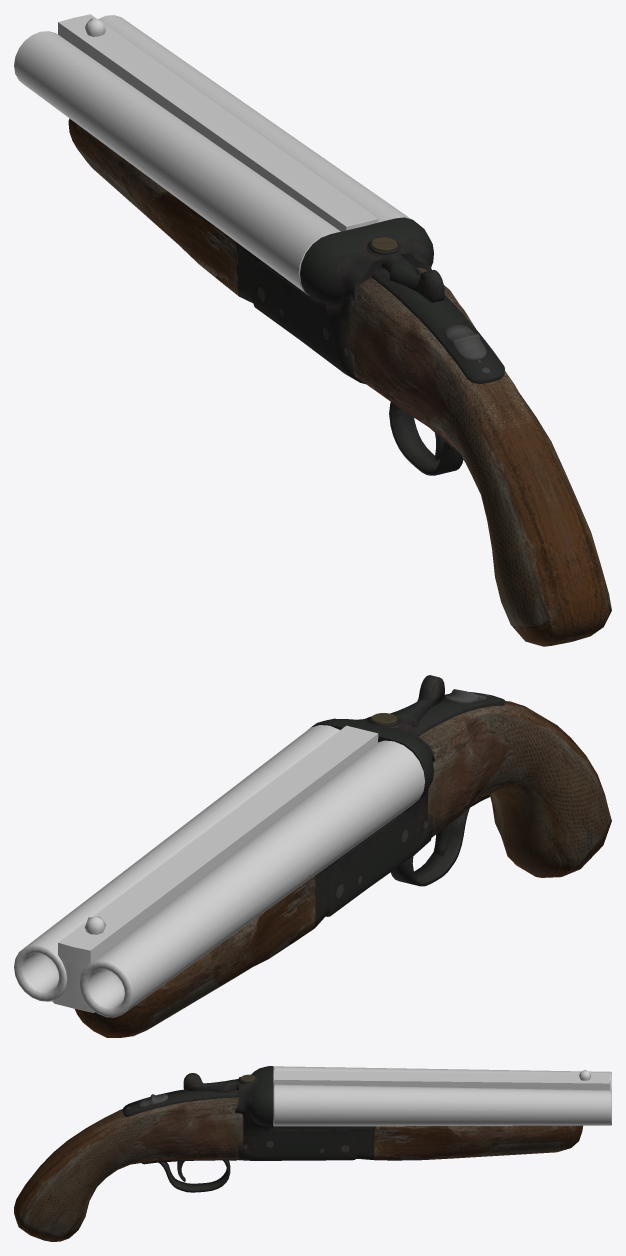
Rendered from 12GaugeShotgun.FBX.
3 views of the same model, one above another, from view 1: azimuth 30°, elevation 25°; view 2: azimuth 150°, elevation 25°; view 3: azimuth 270°, elevation 25° (orthographic). The views are drawn at different scales.
Visible parts, largest first — view 1: Shotgun_Barrel_Short:0, Shotgun_Grip_Stock_Short:0, ShotgunReceiver:0, ShotgunStock:0, ShotgunBarrelCatch:0, Safety:0, Object007:0; view 2: Shotgun_Barrel_Short:0, Shotgun_Grip_Stock_Short:0, ShotgunReceiver:0, ShotgunStock:0, ShotgunBarrelCatch:0, Object007:0; view 3: Shotgun_Barrel_Short:0, Shotgun_Grip_Stock_Short:0, ShotgunReceiver:0, ShotgunStock:0, Object007:0, ShotgunBarrelCatch:0, Safety:0.
Boxes of the visible parts, bbox=[...] form: Shotgun_Barrel_Short:0: bbox=[14, 14, 411, 295]; Shotgun_Grip_Stock_Short:0: bbox=[349, 268, 611, 646]; ShotgunReceiver:0: bbox=[249, 217, 504, 475]; ShotgunStock:0: bbox=[68, 118, 238, 296]; ShotgunBarrelCatch:0: bbox=[366, 237, 444, 302]; Safety:0: bbox=[445, 324, 486, 360]; Object007:0: bbox=[237, 243, 323, 305]; Shotgun_Barrel_Short:0: bbox=[14, 725, 424, 1017]; Shotgun_Grip_Stock_Short:0: bbox=[419, 701, 611, 877]; ShotgunReceiver:0: bbox=[308, 692, 504, 916]; ShotgunStock:0: bbox=[74, 875, 316, 1037]; ShotgunBarrelCatch:0: bbox=[367, 675, 444, 727]; Object007:0: bbox=[315, 813, 400, 927]; Shotgun_Barrel_Short:0: bbox=[273, 1066, 611, 1126]; Shotgun_Grip_Stock_Short:0: bbox=[14, 1097, 243, 1241]; ShotgunReceiver:0: bbox=[122, 1066, 359, 1192]; ShotgunStock:0: bbox=[373, 1125, 582, 1160]; Object007:0: bbox=[273, 1126, 373, 1159]; ShotgunBarrelCatch:0: bbox=[183, 1073, 257, 1092]; Safety:0: bbox=[137, 1094, 168, 1107].
Bounding box in the file's own units: 5.67 × 12.35 × 39.68.
